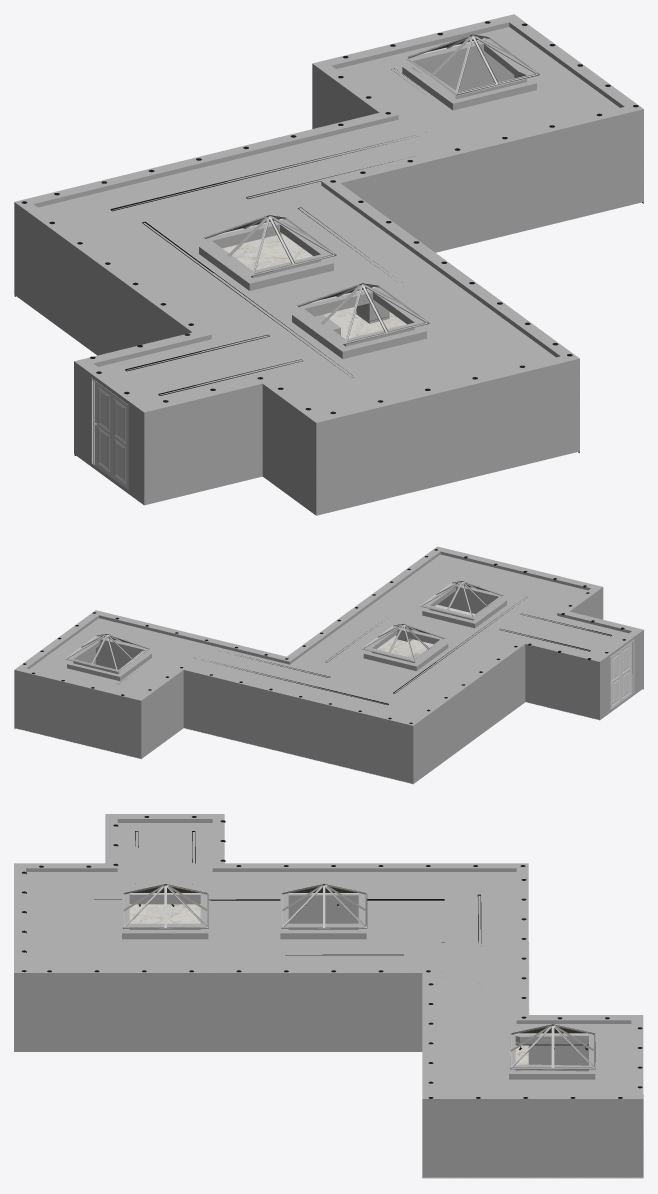
The model's file is MuseumTemplate.gltf.
The picture shows the model from 3 angles, top to bottom: view 1: azimuth 30°, elevation 25°; view 2: azimuth 150°, elevation 25°; view 3: azimuth 270°, elevation 25°; orthographic projection. The views are drawn at different scales.
Parts seen in each view (by area): view 1: ceiling, frame, Door.001, Floor, Light02, Light_01; view 2: ceiling, frame, Door.001, Light02, Floor, Light_01; view 3: ceiling, frame, Floor, Light02, Glass, Light_01.
Boxes of the visible parts, x1=… form: ceiling: x1=14, y1=14, x2=643, y2=515; frame: x1=202, y1=35, x2=539, y2=343; Door.001: x1=94, y1=381, x2=127, y2=489; Floor: x1=222, y1=233, x2=406, y2=338; Light02: x1=110, y1=68, x2=404, y2=395; Light_01: x1=21, y1=21, x2=638, y2=414; ceiling: x1=14, y1=546, x2=643, y2=784; frame: x1=65, y1=581, x2=502, y2=671; Door.001: x1=611, y1=642, x2=631, y2=709; Light02: x1=119, y1=597, x2=611, y2=704; Floor: x1=14, y1=604, x2=598, y2=783; Light_01: x1=23, y1=549, x2=625, y2=723; ceiling: x1=14, y1=814, x2=643, y2=1178; frame: x1=122, y1=884, x2=595, y2=1069; Floor: x1=129, y1=904, x2=643, y2=1177; Light02: x1=94, y1=831, x2=588, y2=1050; Glass: x1=123, y1=884, x2=595, y2=1033; Light_01: x1=22, y1=816, x2=642, y2=1098.
Bounding box in the file's own units: 42.34 × 8.05 × 39.53.
